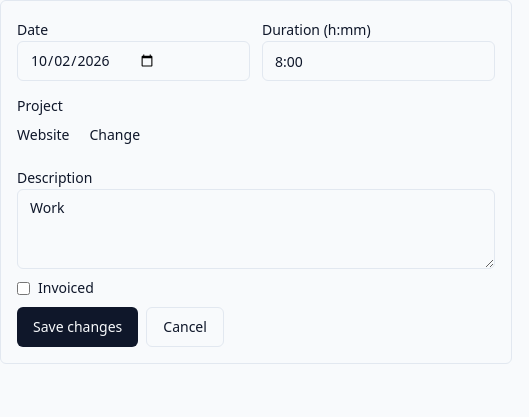
it: MyZenEntryForm › shows a search failure and a generic save failure
The width and height of the screenshot is (529, 417).
Later steps or results of the test are not shown.
Click the button "Save changes". click: x=78, y=327
box: x1=17 y1=307 x2=138 y2=347
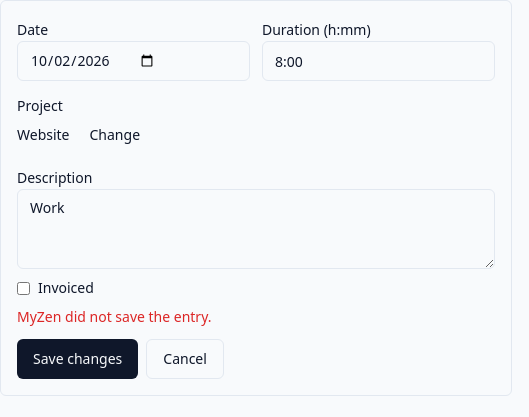
Expected: the text "MyZen did not save the entry." is shown, x1=17 y1=307 x2=212 y2=326
Click the button "Change". click: x=115, y=135
box: x1=78 y1=117 x2=152 y2=153
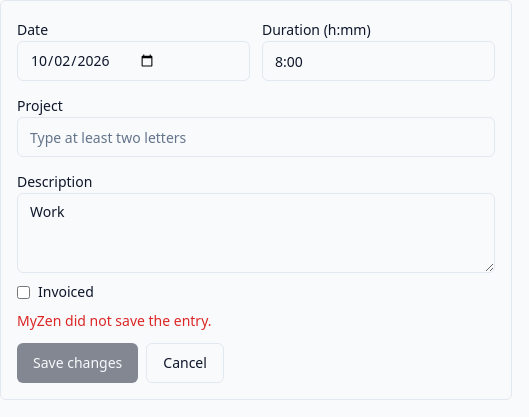
Type "web" into the field labelled "Project". click: x=256, y=137
box: x1=17 y1=117 x2=495 y2=157
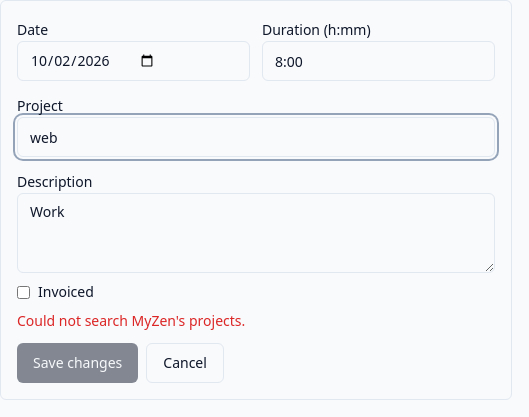
Expected: the text "Could not search MyZen's projects." is shown, x1=17 y1=311 x2=245 y2=330
